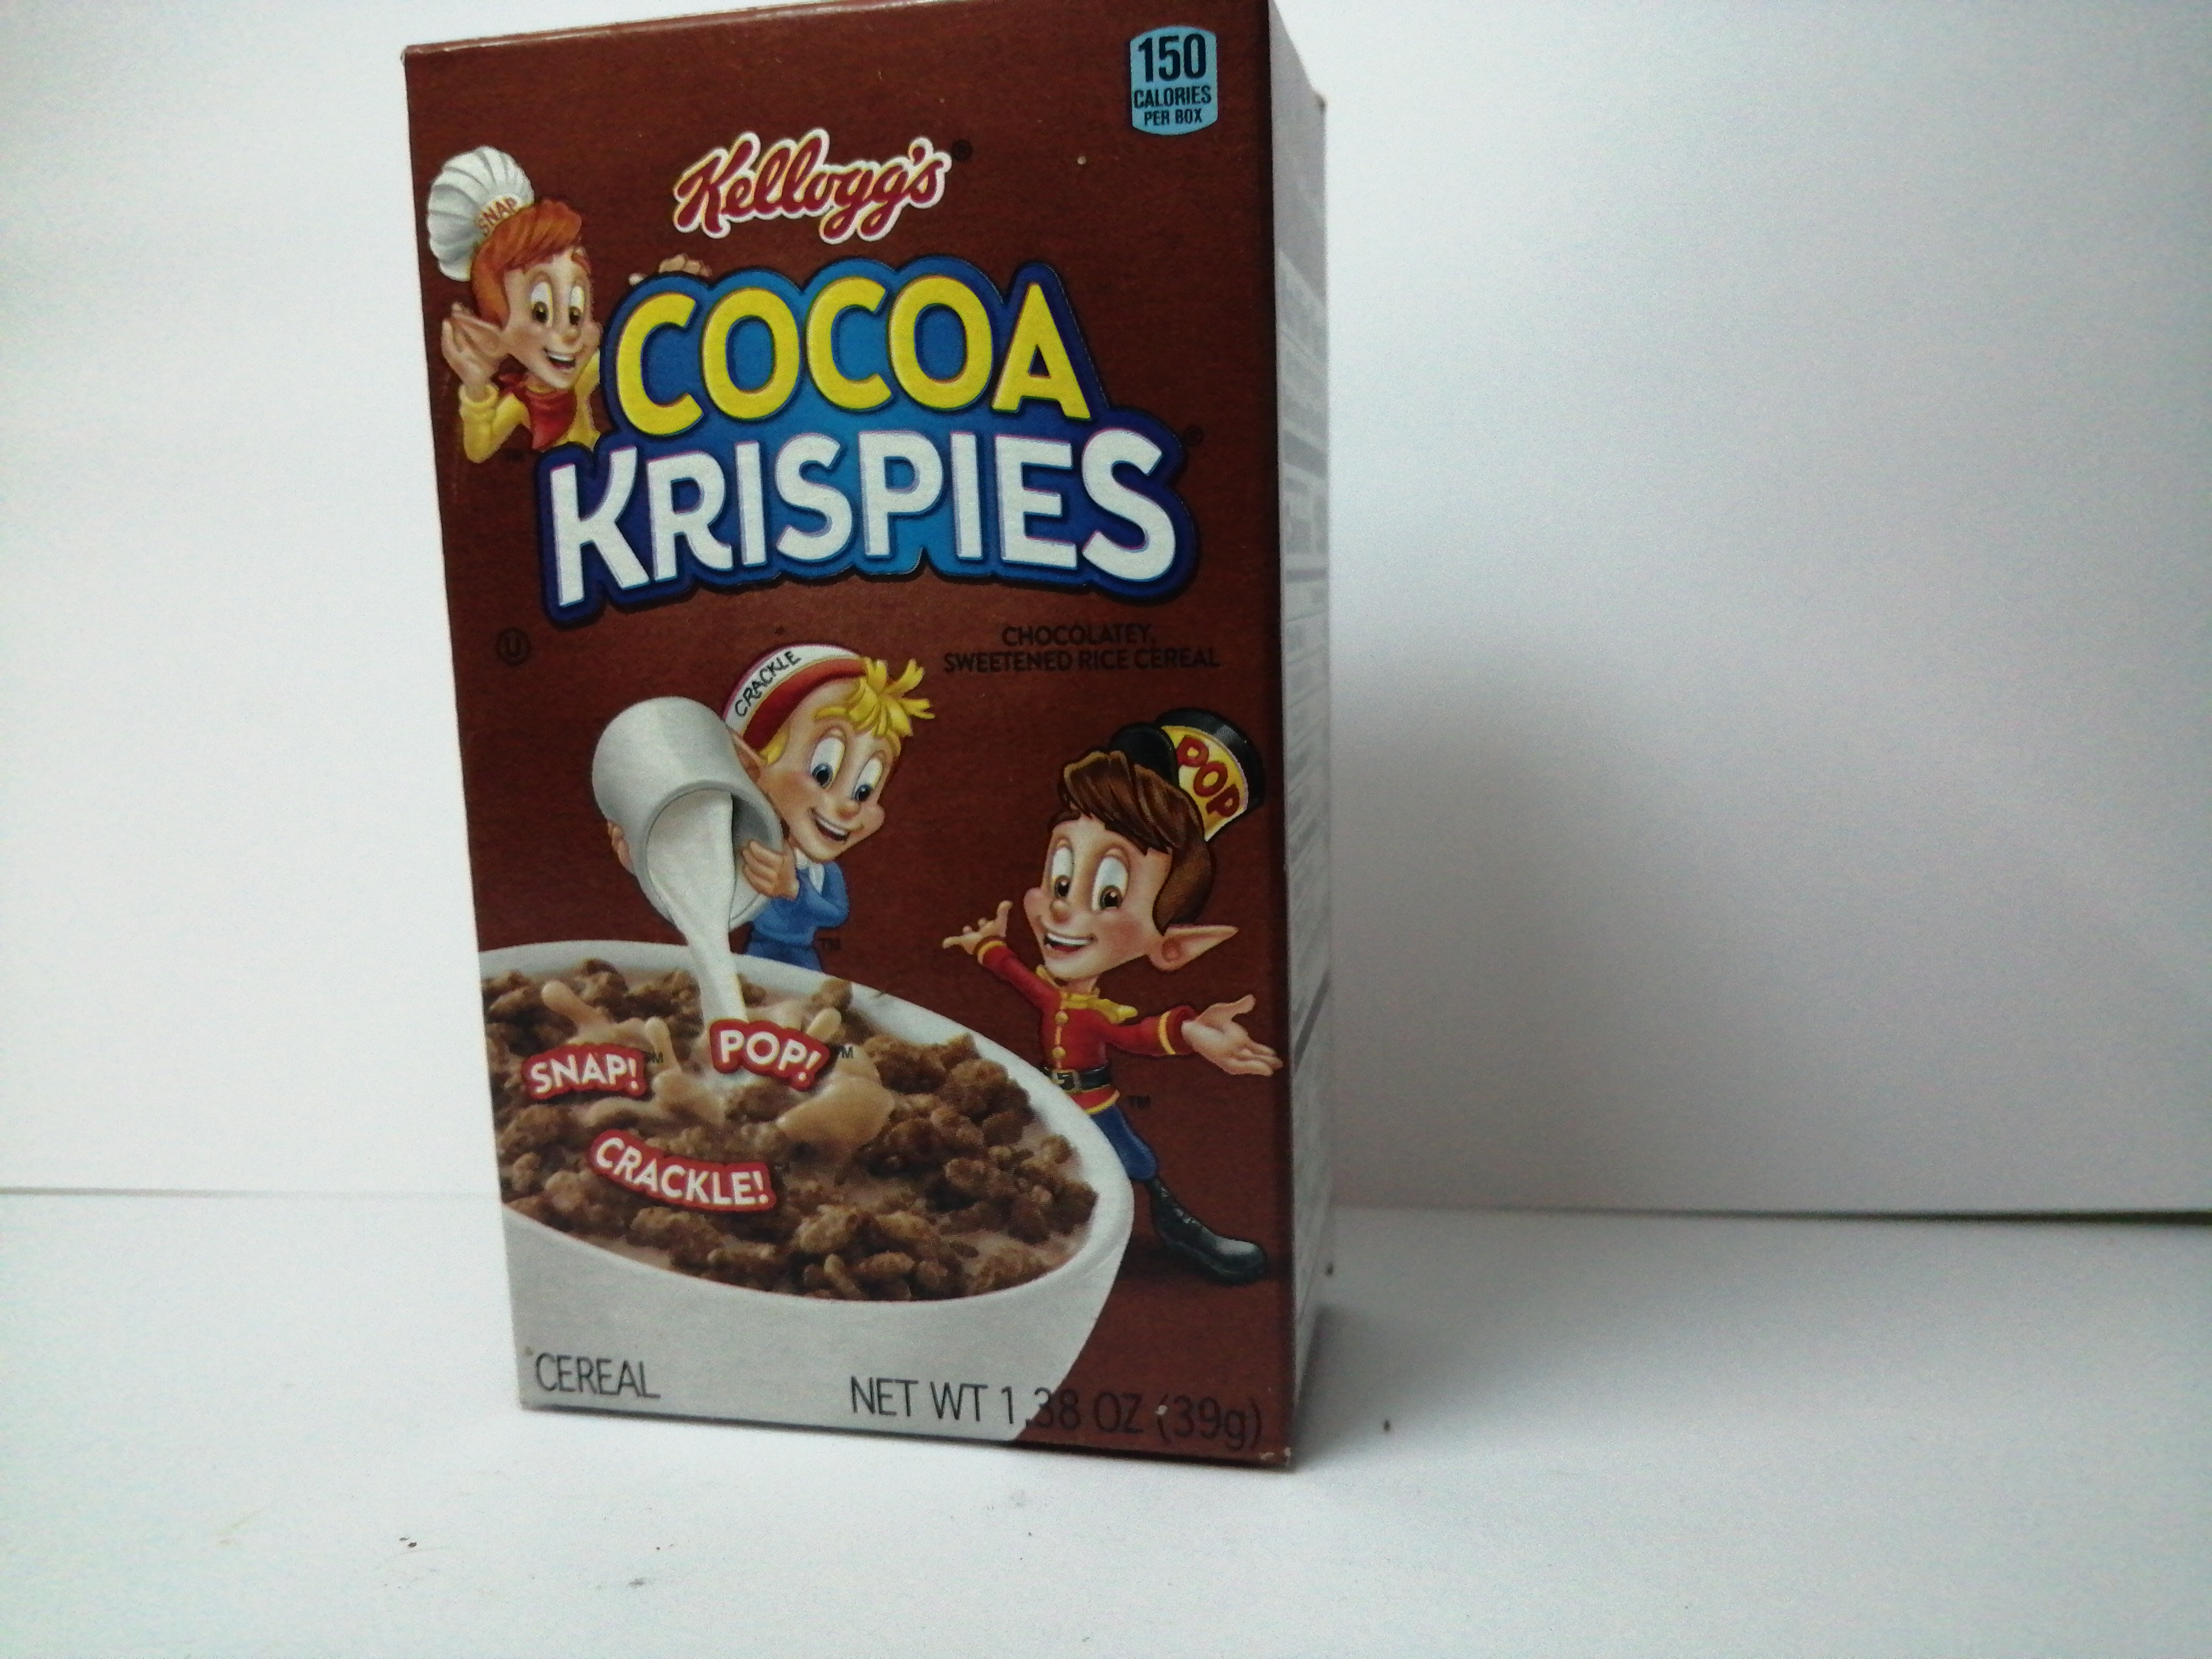cereal chocolate: (376, 9, 1521, 1466)
